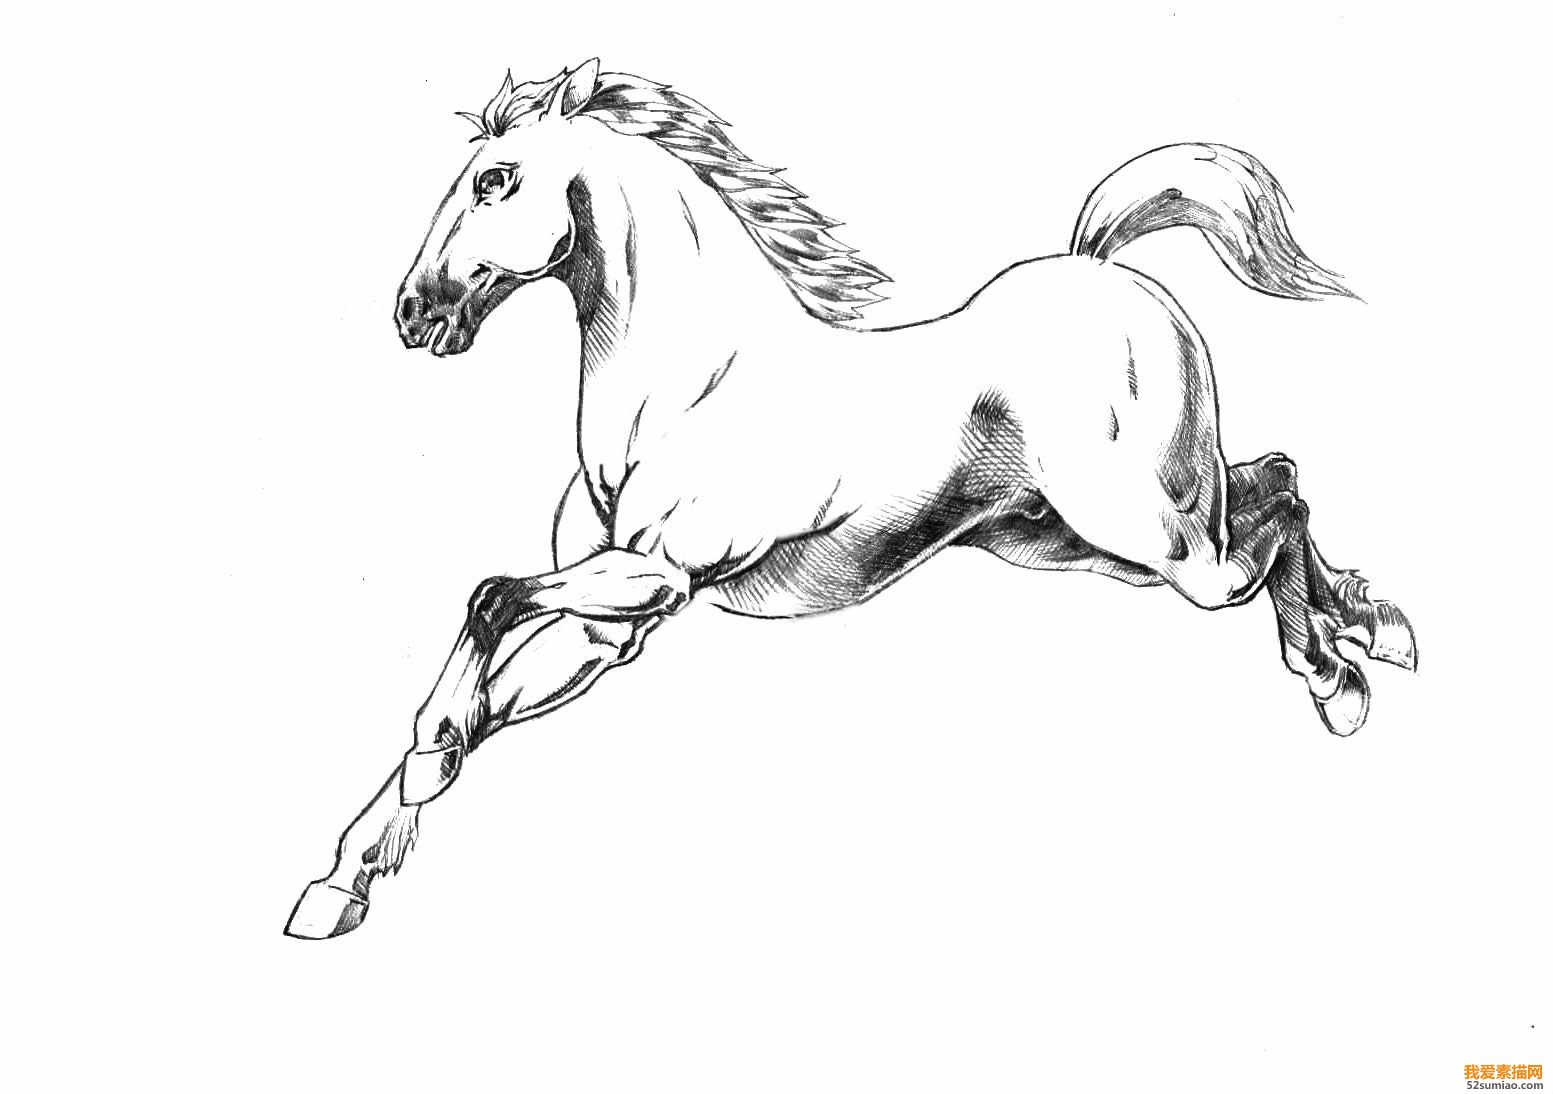background: (268, 77, 1443, 960)
